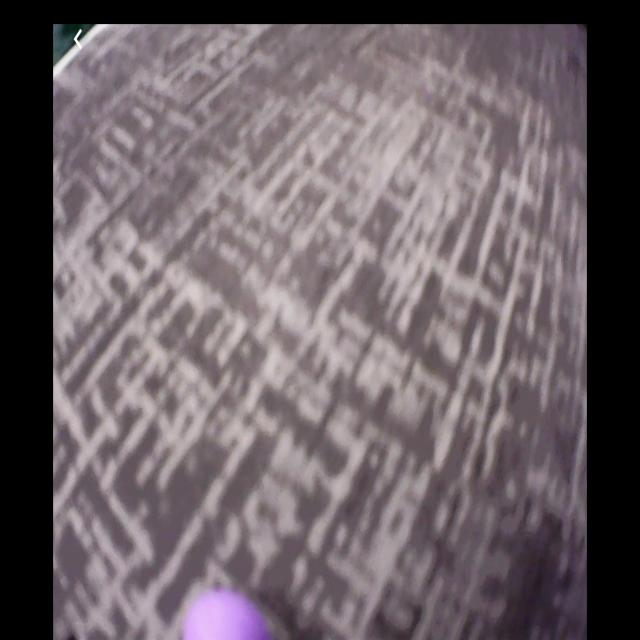ball: (178, 589, 271, 640)
